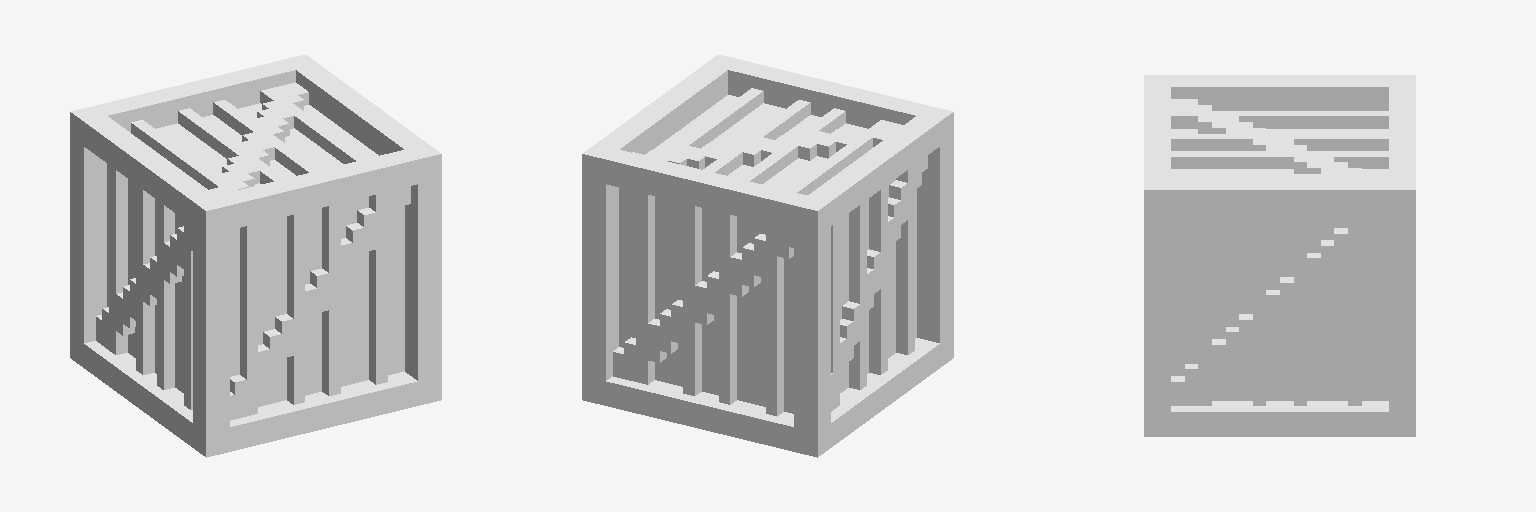
The model's file is Crate01.obj.
3 renders of one model, left to right at view 1: azimuth 30°, elevation 25°; view 2: azimuth 150°, elevation 25°; view 3: azimuth 270°, elevation 25°, orthographic.
Visible parts, largest first — view 1: object 1; view 2: object 1; view 3: object 1.
Part boxes in pixels (x1,y1,x2,y2): object 1: (70, 54, 441, 457); object 1: (582, 54, 953, 457); object 1: (1144, 75, 1415, 436).
Bounding box in the file's own units: 2 × 2 × 2.